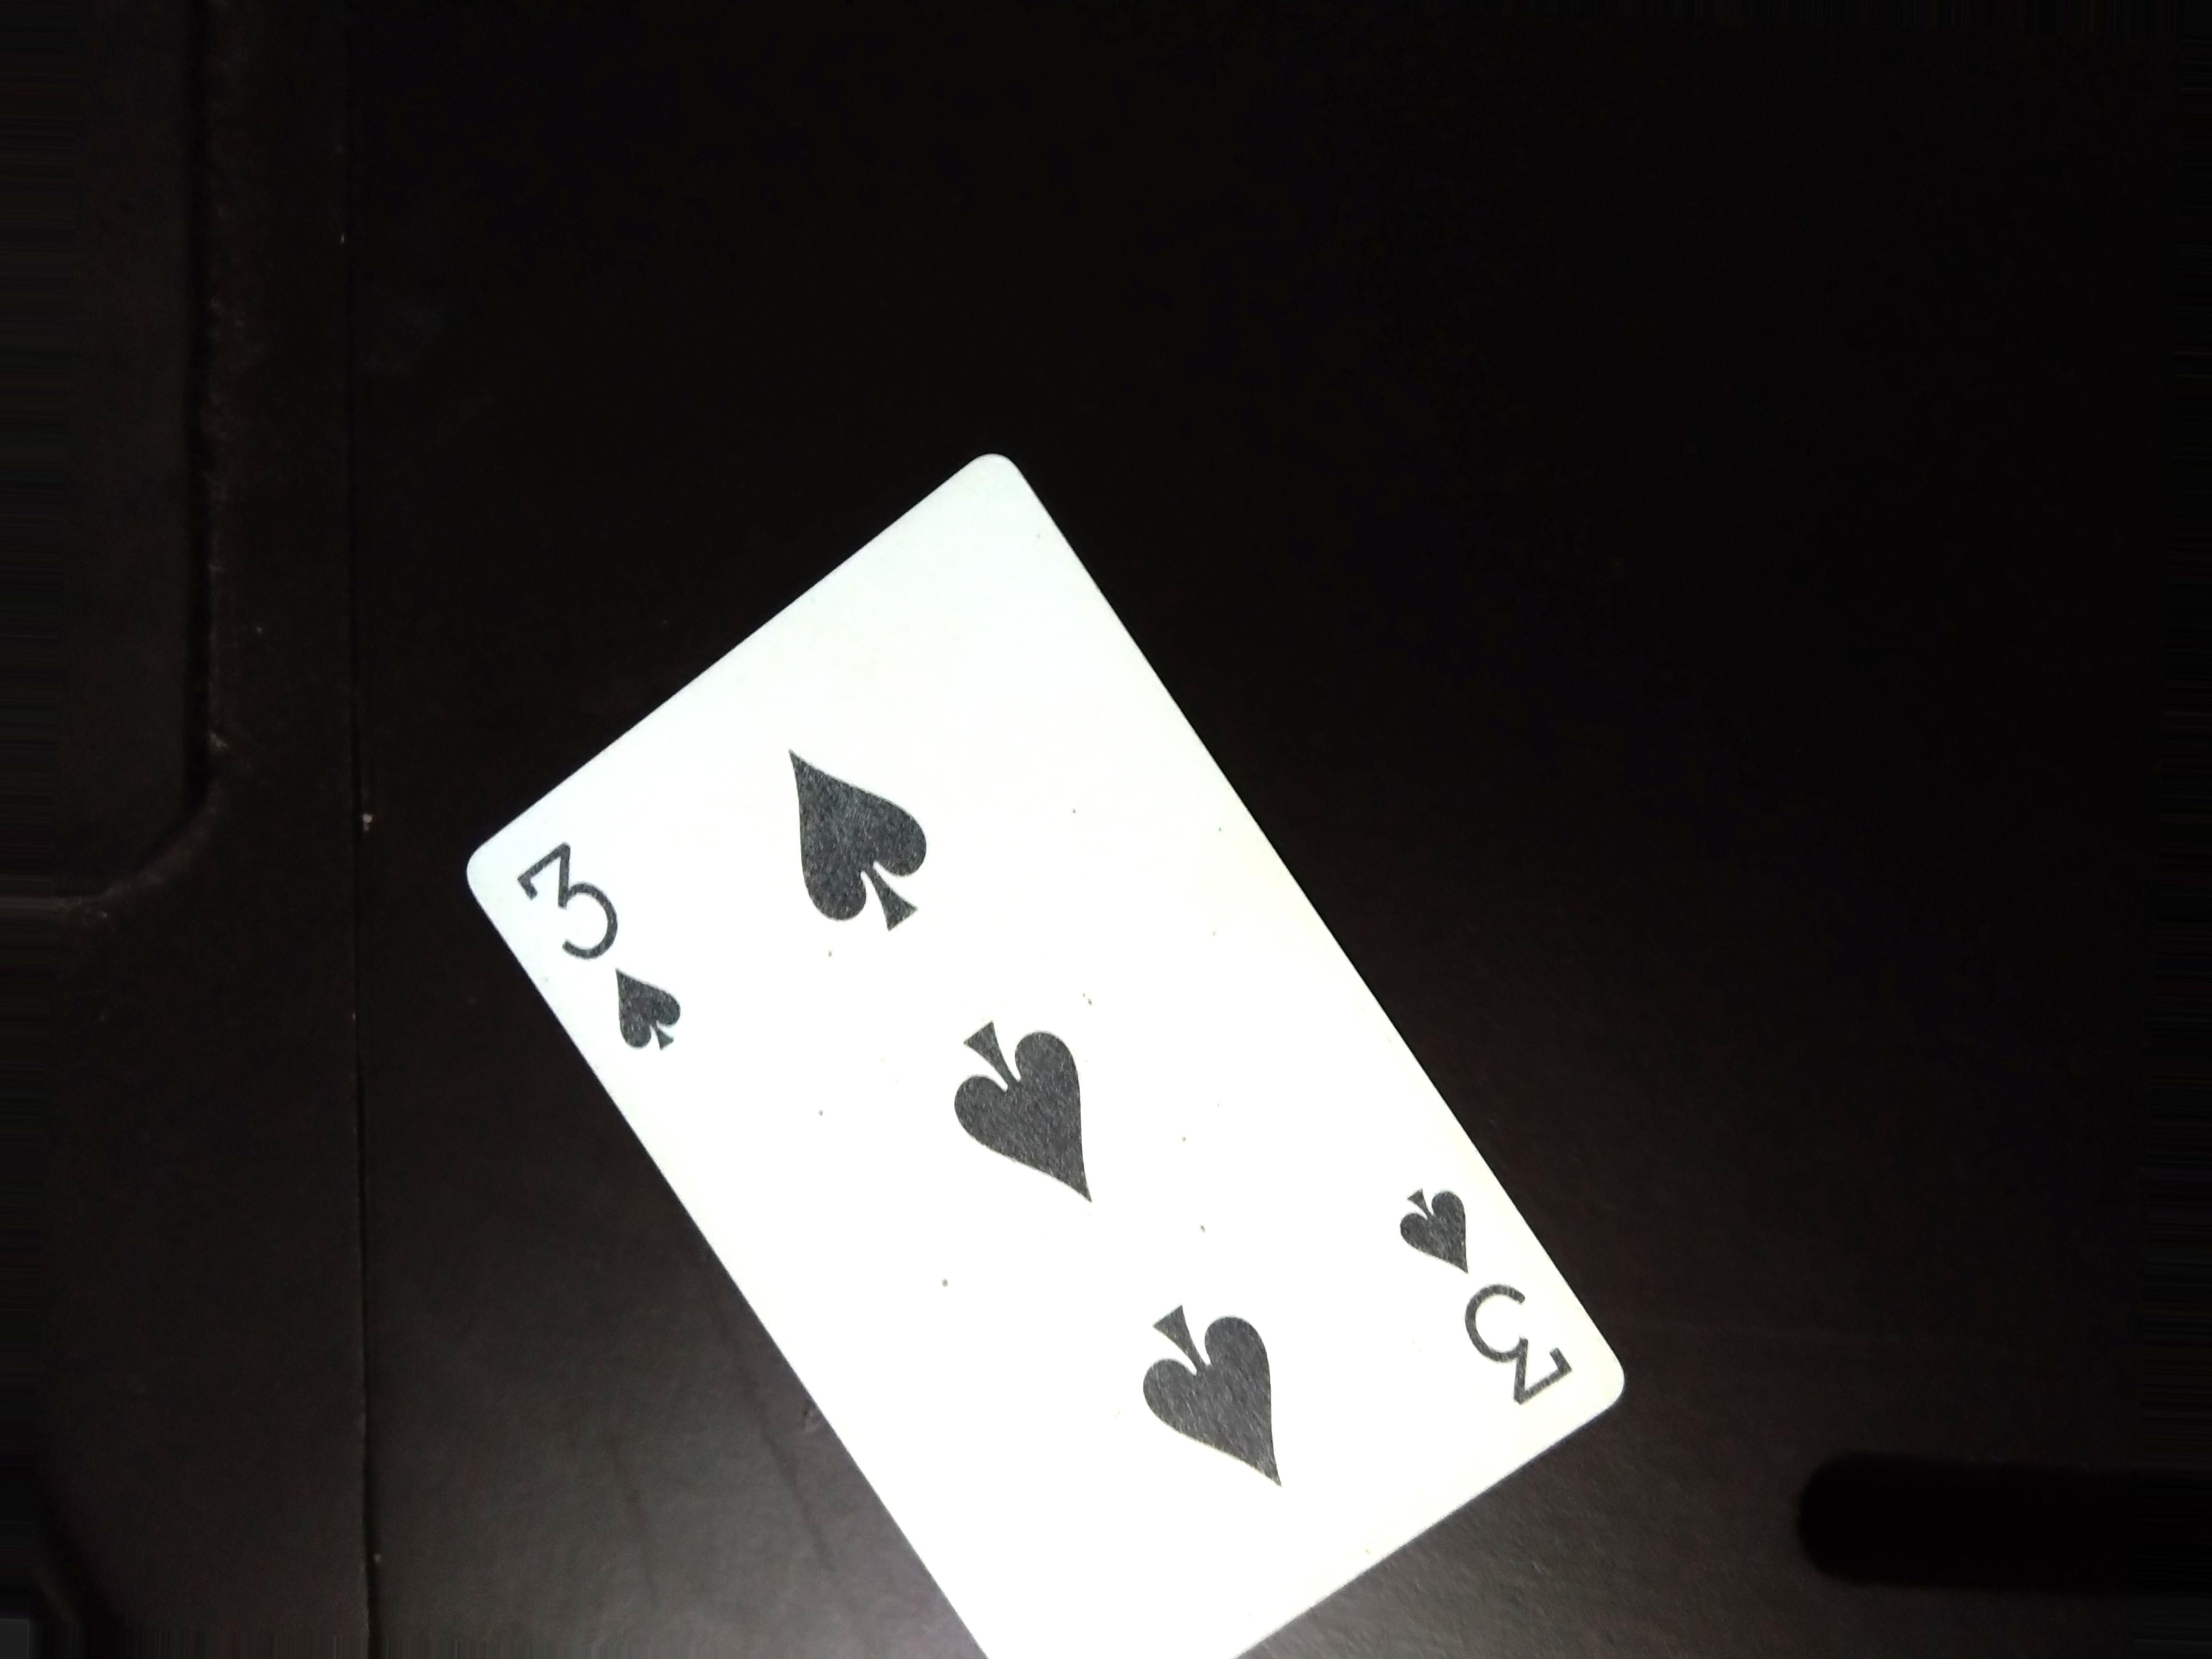3S: (1388, 1173, 1601, 1459)
